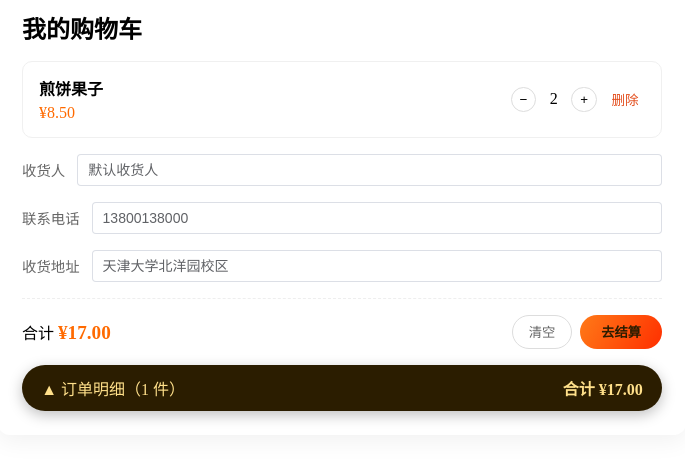
Test: 购物车页 › 修改数量失败时保留原数量并展示后端原因
What coordinates should you click on to do the following:
click the button with test id "cart-plus-50"
I would click on:
 (584, 99)
Its box is [571, 87, 597, 112].
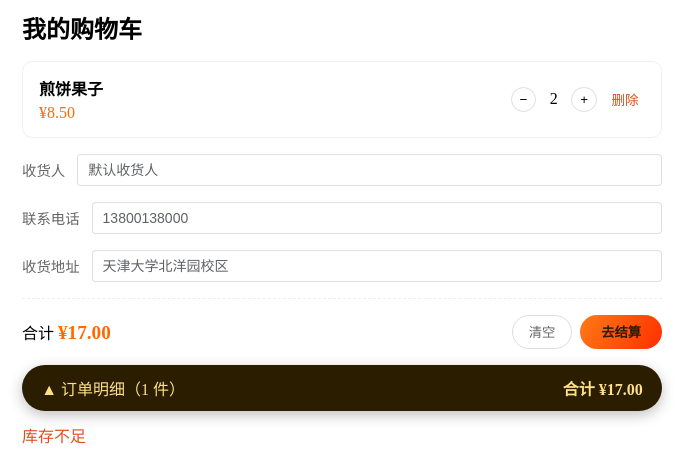
Expected: the text with test id "cart-qty-50" reads "2", [550, 90, 558, 107]
Expected: the text "库存不足" is shown, [22, 428, 86, 445]
